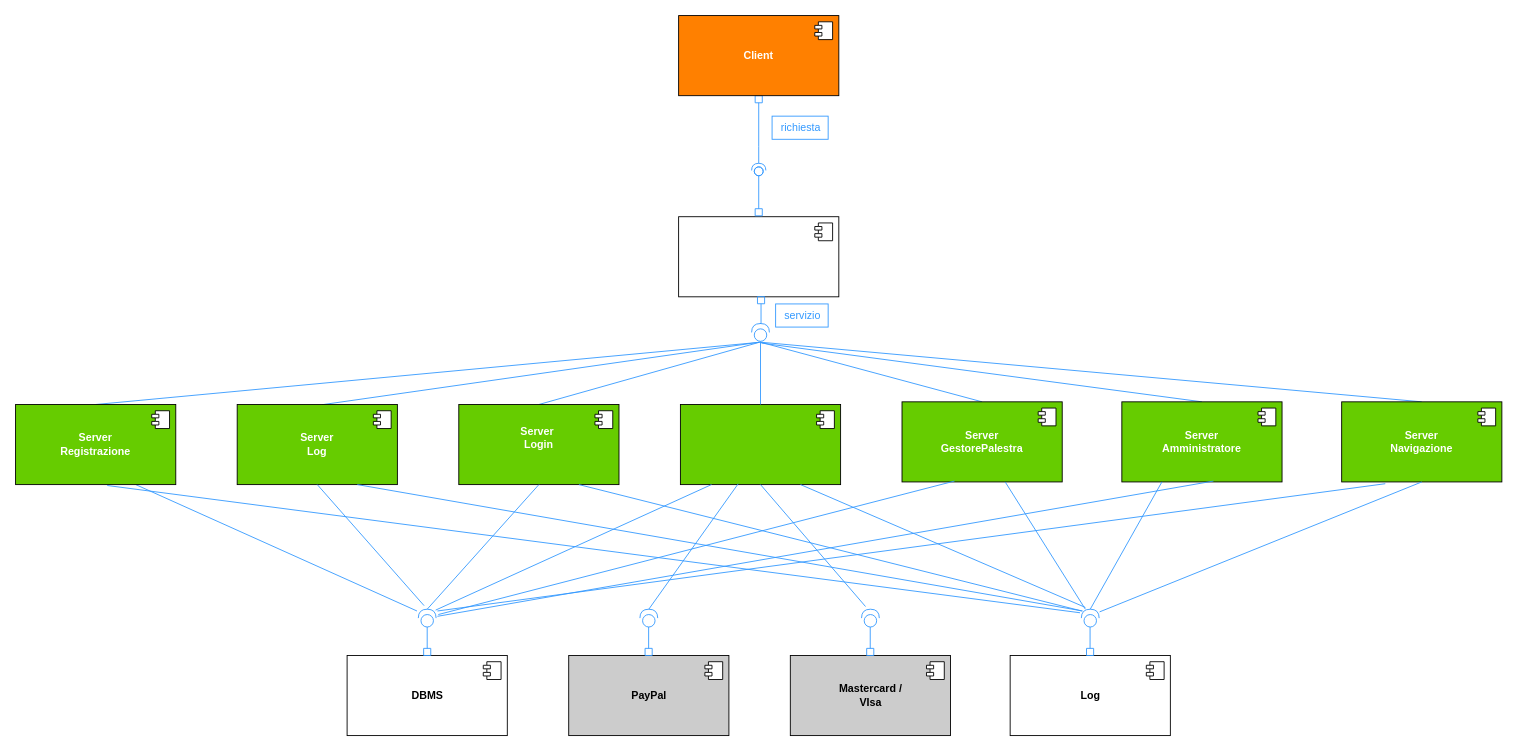
This 1517x751 diagram has some shape labels left out. Here are the shapes that lost their labels. From the top down, the centre of each, then its label:
At (x=758, y=256): "Broker".
At (x=760, y=444): "Server Utente".
